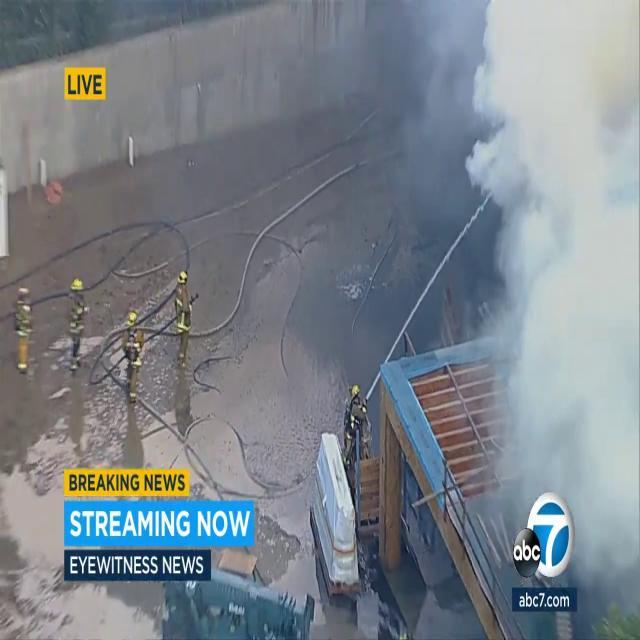Smoke: (459, 0, 640, 538)
